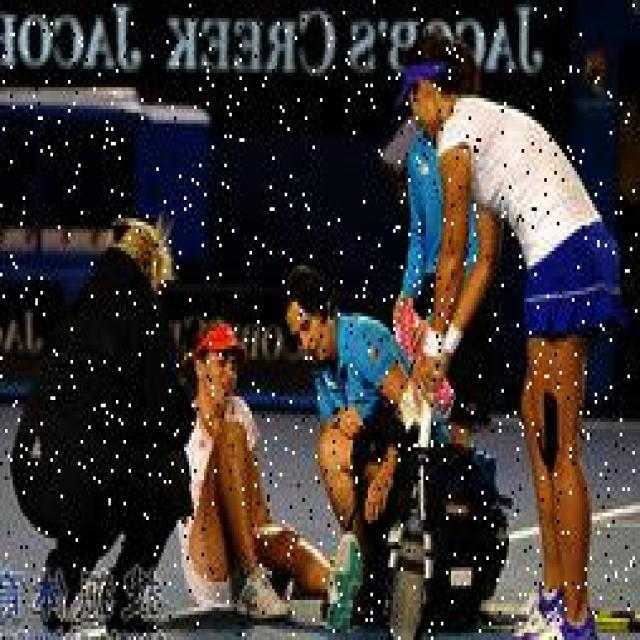fall: (181, 316, 300, 622)
